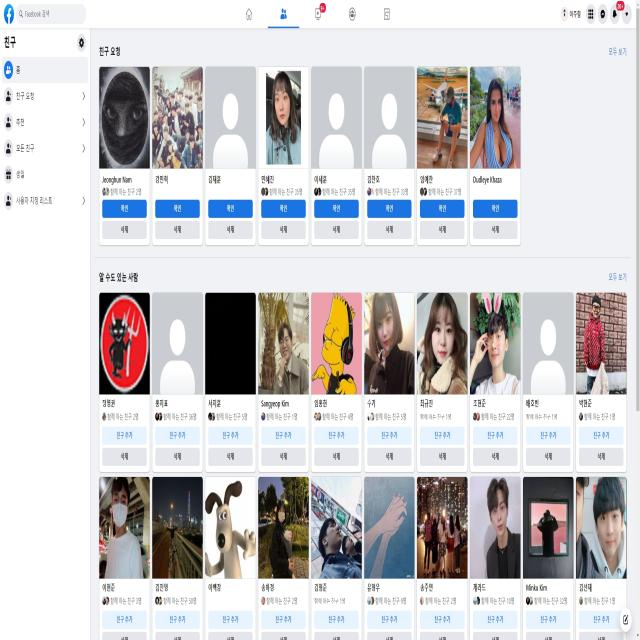menu-panel: (1, 52, 90, 209)
search: (15, 2, 87, 24)
